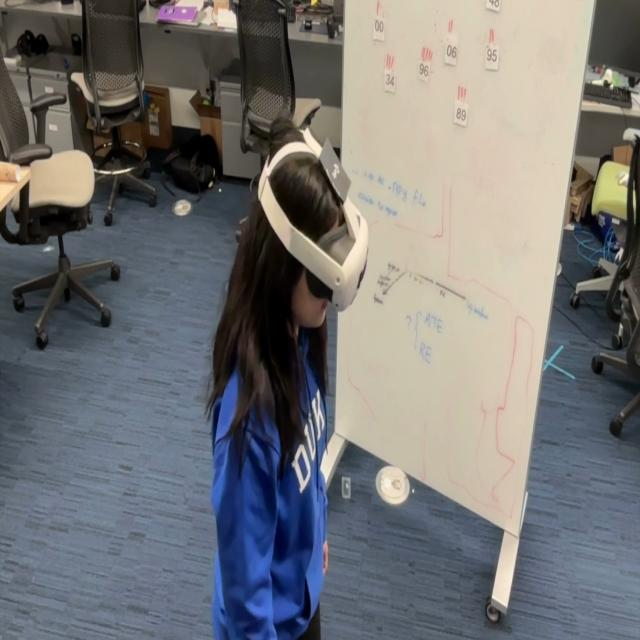Headset: (256, 129, 369, 312)
UnityLogo: (317, 133, 352, 204)
